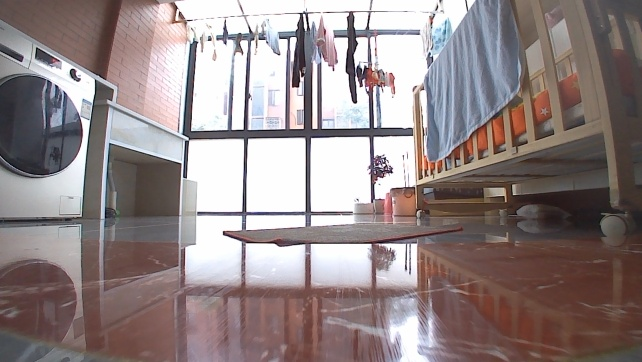blanket: (220, 222, 465, 244)
washing_machine: (0, 22, 99, 225)
